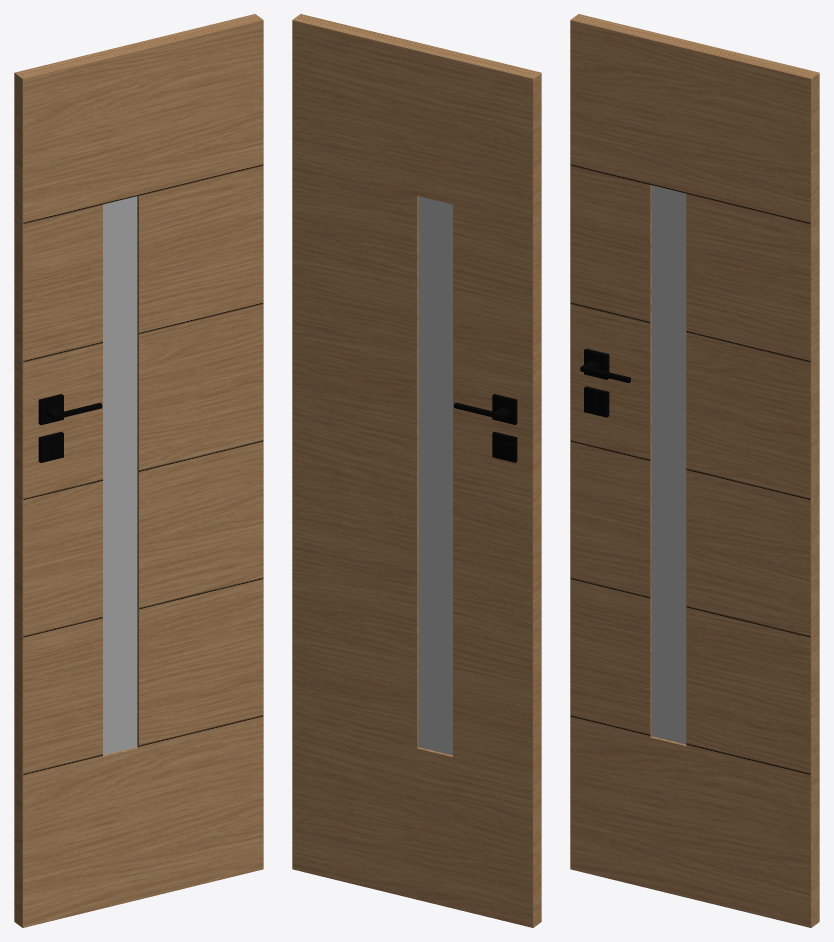
Rendered from VE_7_full1_door.glb.
3 views of the same model, side by side, from view 1: azimuth 30°, elevation 25°; view 2: azimuth 150°, elevation 25°; view 3: azimuth 330°, elevation 25° (orthographic).
Visible parts, largest first — view 1: V_E_7__1_door_; view 2: V_E_7__1_door_; view 3: V_E_7__1_door_.
Boxes of the visible parts, left/top/right/bottom form: V_E_7__1_door_: left=14, top=14, right=263, bottom=927; V_E_7__1_door_: left=292, top=14, right=541, bottom=927; V_E_7__1_door_: left=570, top=14, right=819, bottom=927.
Bounding box in the file's own units: 0.523 × 1.76 × 0.1089.
2 materials, 1 textured.
